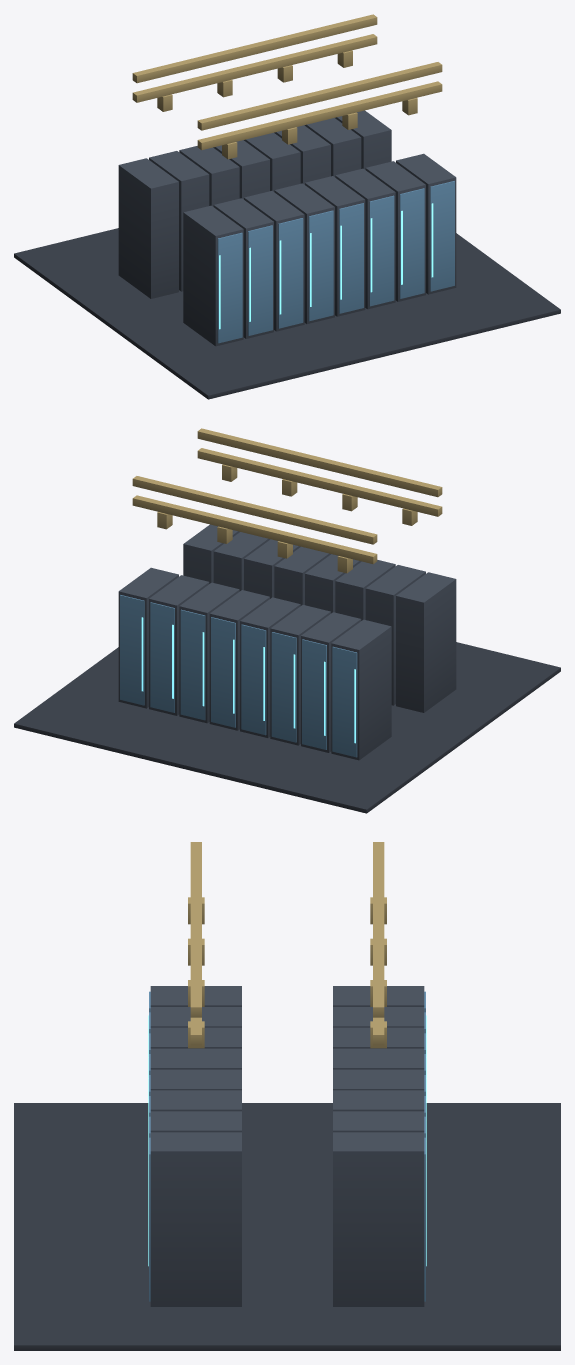
File: dgx-b200-aircooled-2su.glb
The picture shows the model from 3 angles, top to bottom: view 1: azimuth 30°, elevation 25°; view 2: azimuth 150°, elevation 25°; view 3: azimuth 270°, elevation 25°; orthographic projection. The views are drawn at different scales.
Parts seen in each view (by area): view 1: floor, rack-B1, rack-A1, busway-A1, busway-A2, busway-B1, busway-B2, rack-A3-door, rack-A4-door, rack-A1-door, rack-A6-door, rack-A2-door (+17 smaller); view 2: floor, rack-A1, rack-B1, busway-B1, busway-B2, busway-A1, busway-A2, rack-B3-door, rack-B4-door, rack-B1-door, rack-B6-door, rack-B2-door (+17 smaller); view 3: floor, rack-A8, rack-B8, busway-A2, busway-B2, rack-A4, rack-A6, rack-A7, rack-B4, rack-B6, rack-B7, rack-A5 (+7 smaller).
Boxes of the visible parts, x1,y1,x2,y2 form: floor: (14, 228, 560, 399); rack-B1: (118, 158, 178, 298); rack-A1: (183, 205, 243, 346); busway-A1: (197, 81, 442, 150); busway-A2: (197, 62, 442, 130); busway-B1: (132, 34, 377, 102); busway-B2: (132, 14, 377, 83); rack-A3-door: (278, 218, 303, 328); rack-A4-door: (308, 210, 333, 321); rack-A1-door: (217, 232, 242, 343); rack-A6-door: (369, 195, 394, 306); rack-A2-door: (248, 225, 272, 335); floor: (14, 642, 560, 813); rack-A1: (396, 572, 456, 712); rack-B1: (331, 619, 391, 760); busway-B1: (132, 495, 377, 564); busway-B2: (132, 476, 377, 544); busway-A1: (197, 448, 442, 516); busway-A2: (197, 428, 442, 497); rack-B3-door: (271, 632, 296, 742); rack-B4-door: (241, 624, 266, 735); rack-B1-door: (332, 646, 357, 757); rack-B6-door: (180, 609, 205, 720); rack-B2-door: (302, 639, 326, 749); floor: (14, 1103, 560, 1350); rack-A8: (150, 1132, 241, 1306); rack-B8: (333, 1132, 424, 1306); busway-A2: (190, 842, 201, 1017); busway-B2: (373, 842, 384, 1017); rack-A4: (150, 1048, 241, 1069); rack-A6: (150, 1090, 241, 1111); rack-A7: (150, 1111, 241, 1132); rack-B4: (333, 1048, 424, 1069); rack-B6: (333, 1090, 424, 1111); rack-B7: (333, 1111, 424, 1132); rack-A5: (150, 1069, 241, 1090).
Size of the model in its own units: 7.55 by 4.43 by 7.2.
